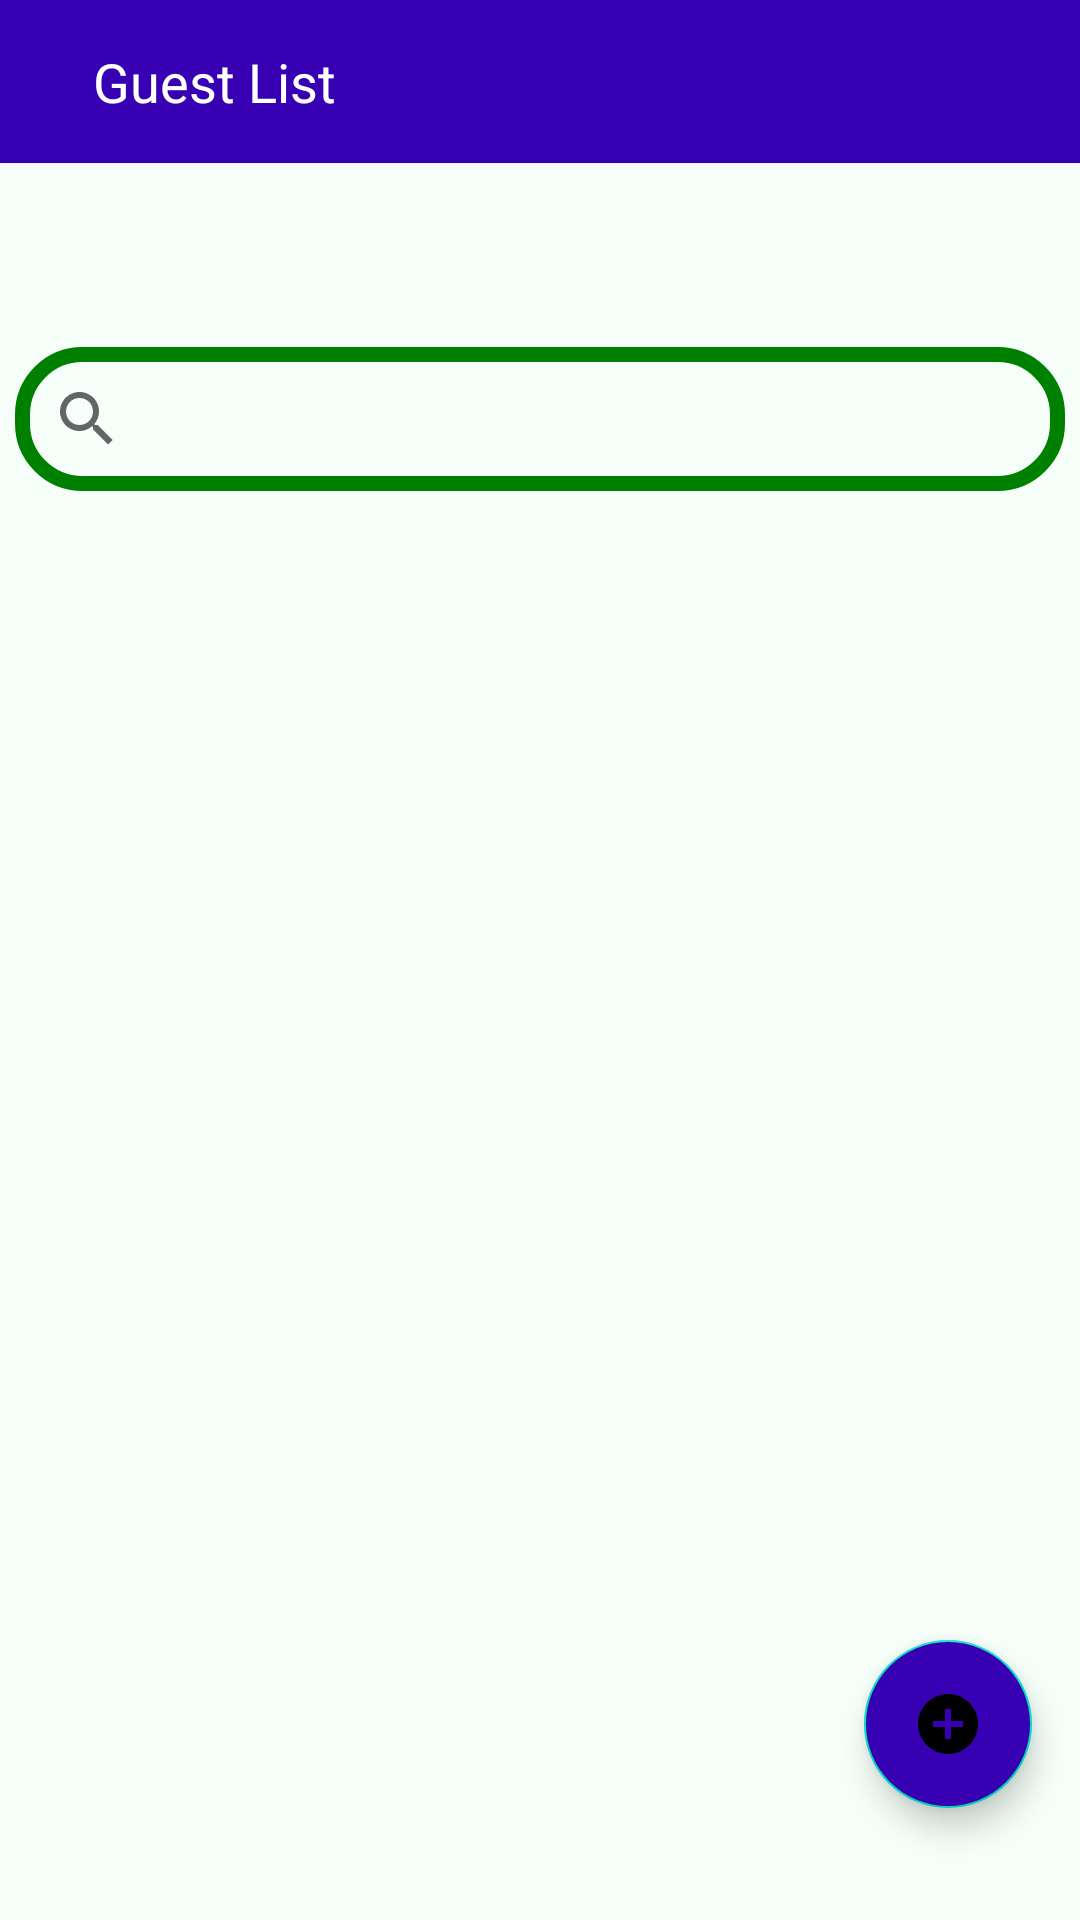

Locate icon controls on the screen. Image size 1080px x 1920px, boxes as [x1=x1, y1=y1, x2=x2, y2=y2].
addicon: [x1=864, y1=1640, x2=1032, y2=1808]
